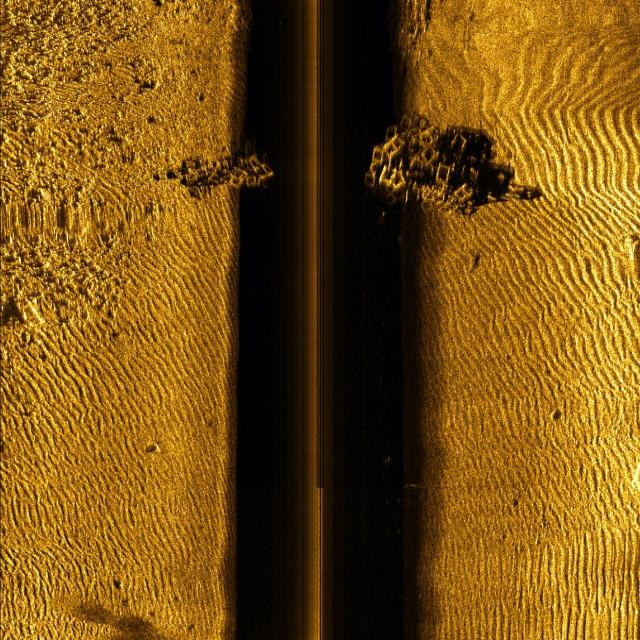artificial reef: (362, 112, 514, 226), (166, 142, 282, 208)
